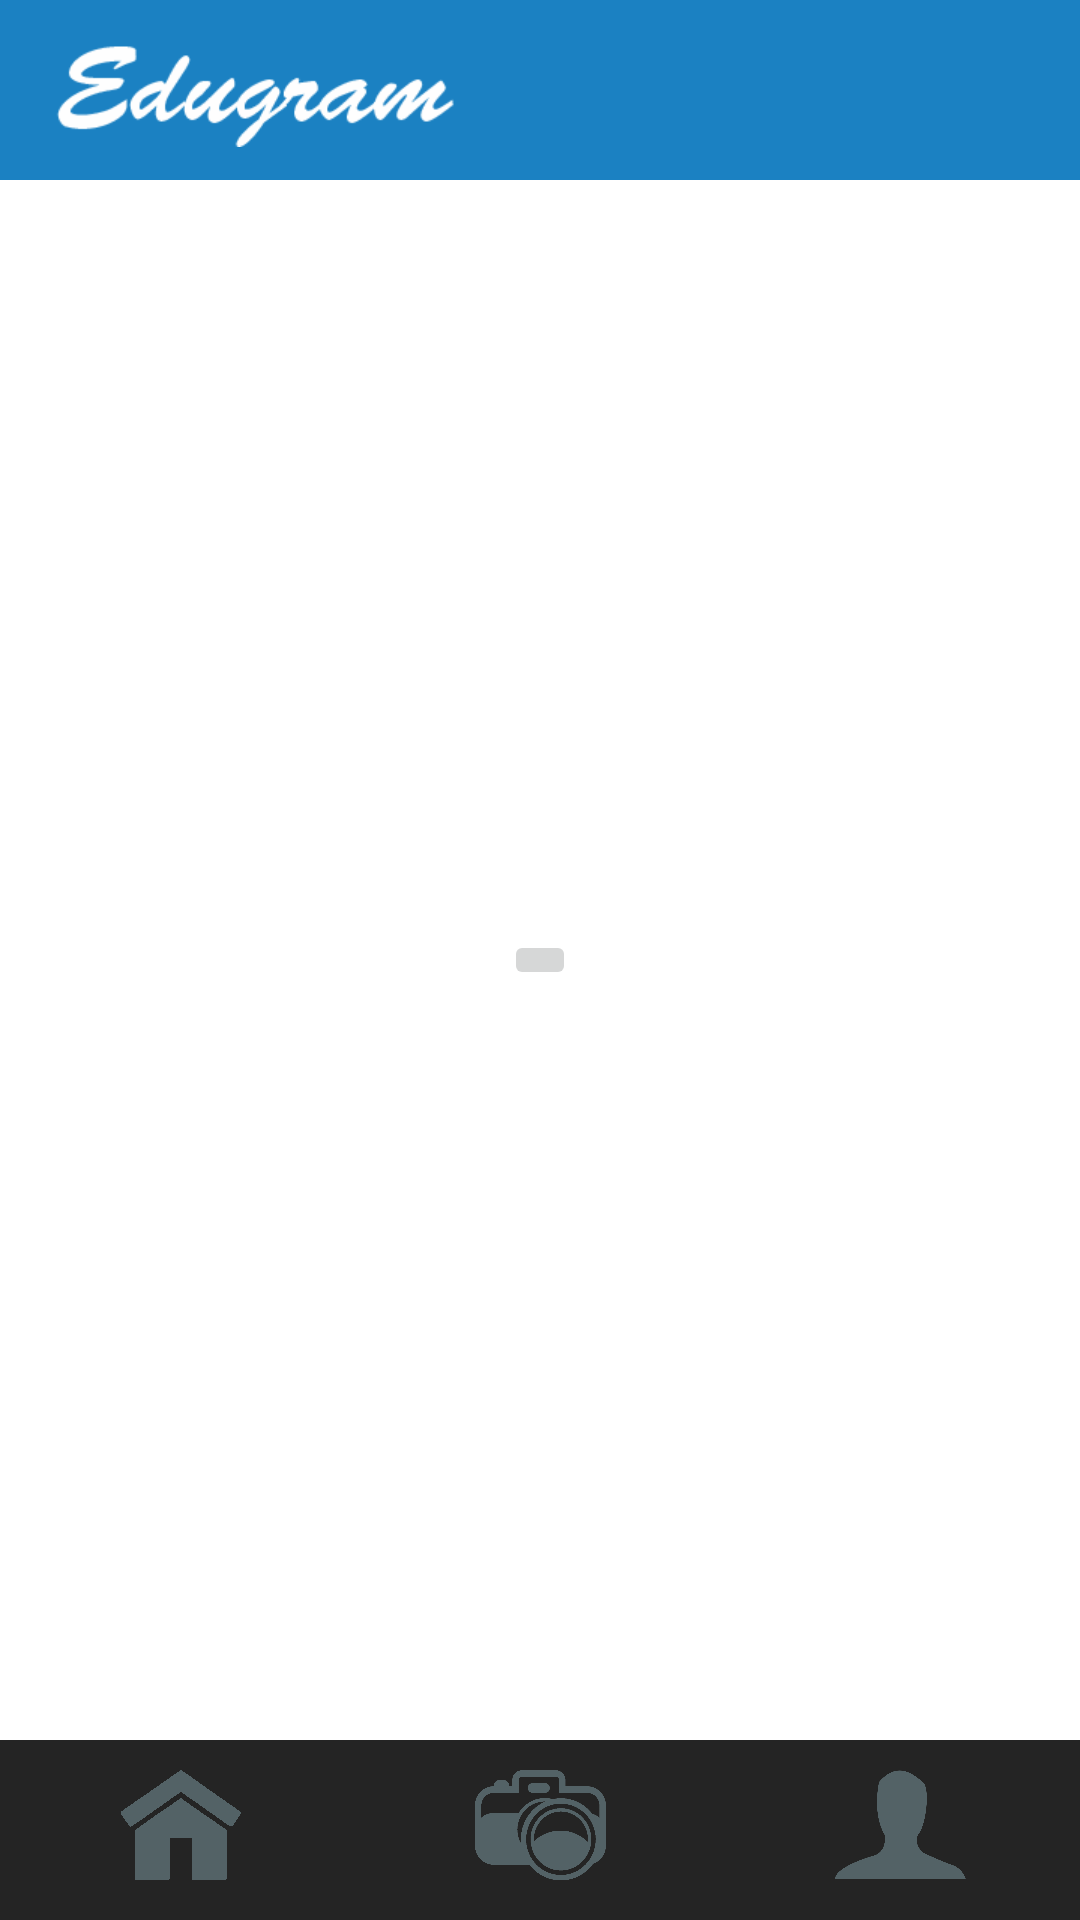

Where to tap for icons on this 1080w x 1920h app screen, as (x=x, y=y):
camera: (x=540, y=1825)
home: (x=181, y=1825)
Profile: (x=900, y=1824)
